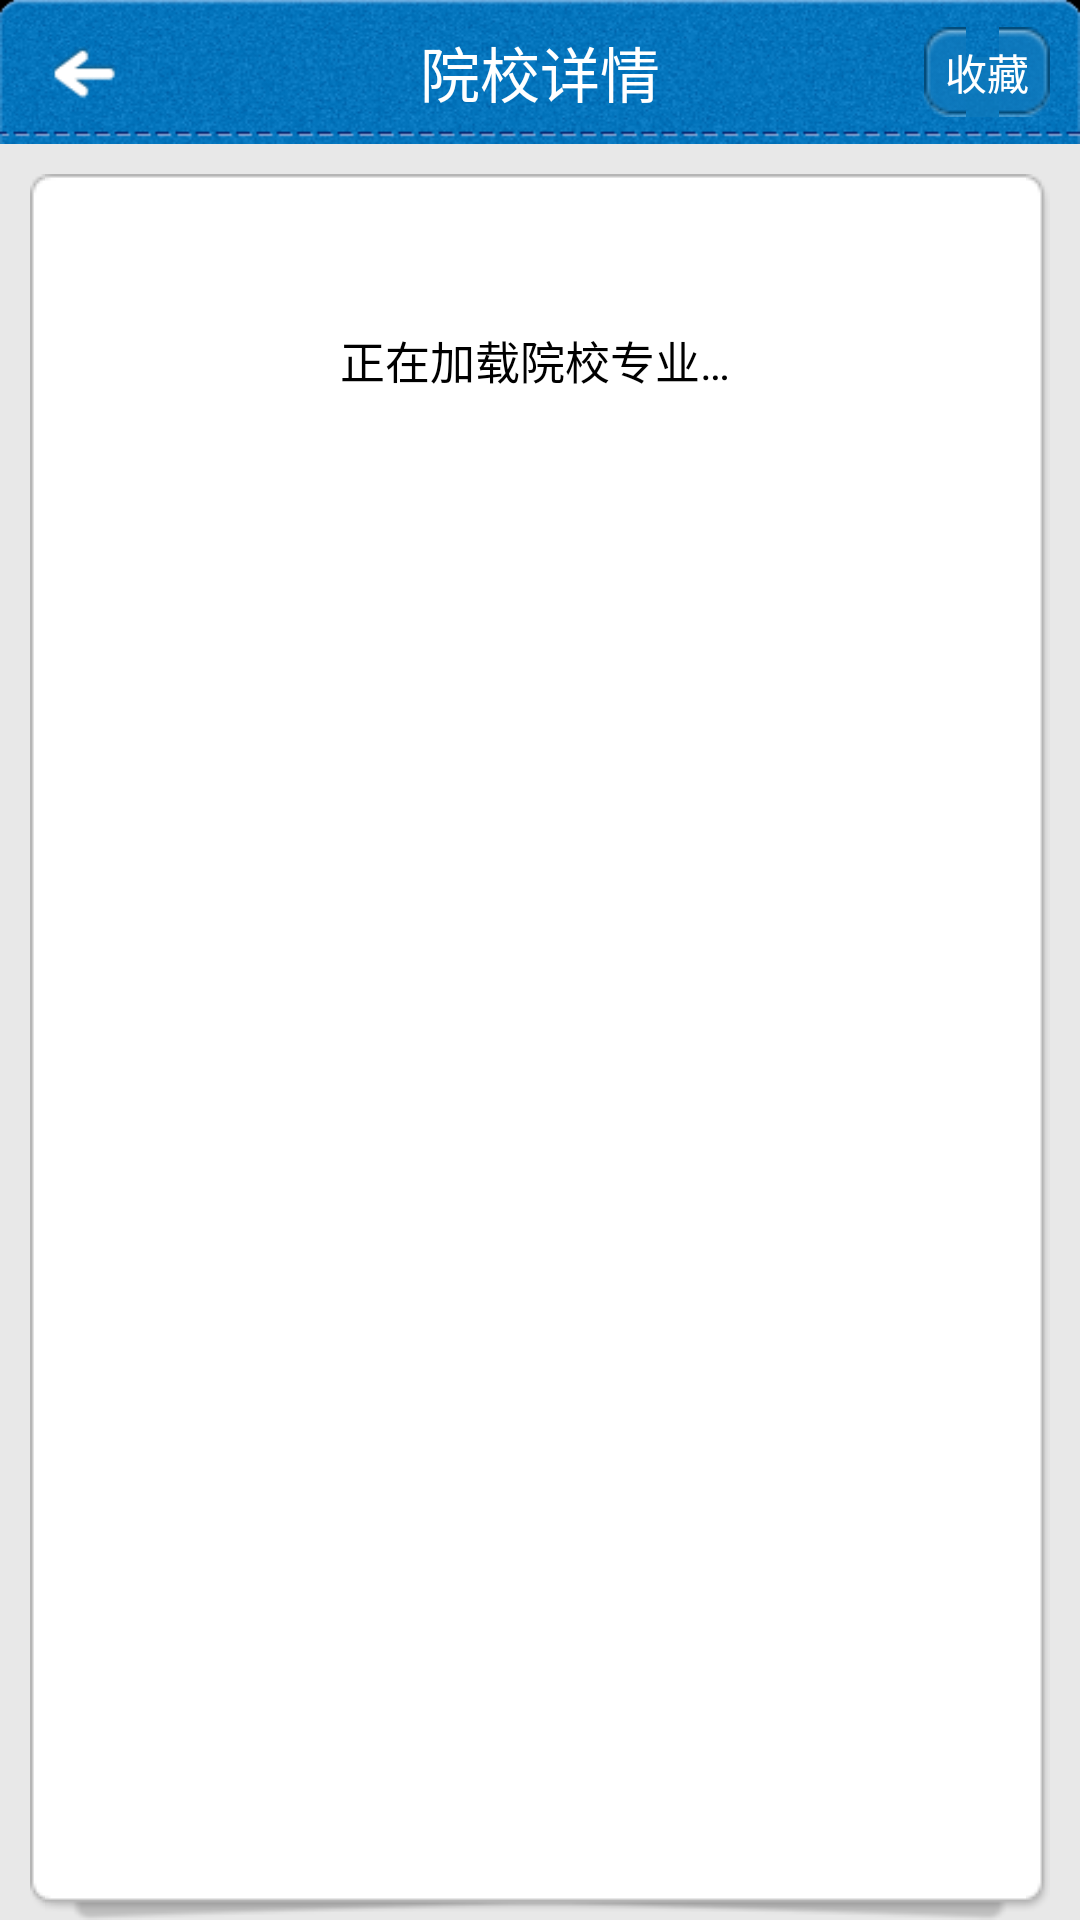

Icons on this 1080w x 1920h Android screen, each with its box as (x1, y1, x2, y2):
title back: (15, 48, 150, 137)
